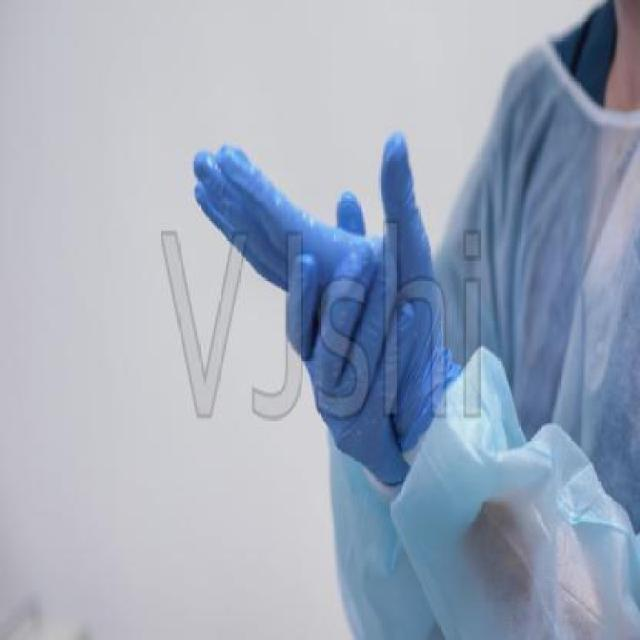hand_glove: (186, 131, 446, 374), (284, 187, 396, 476)
